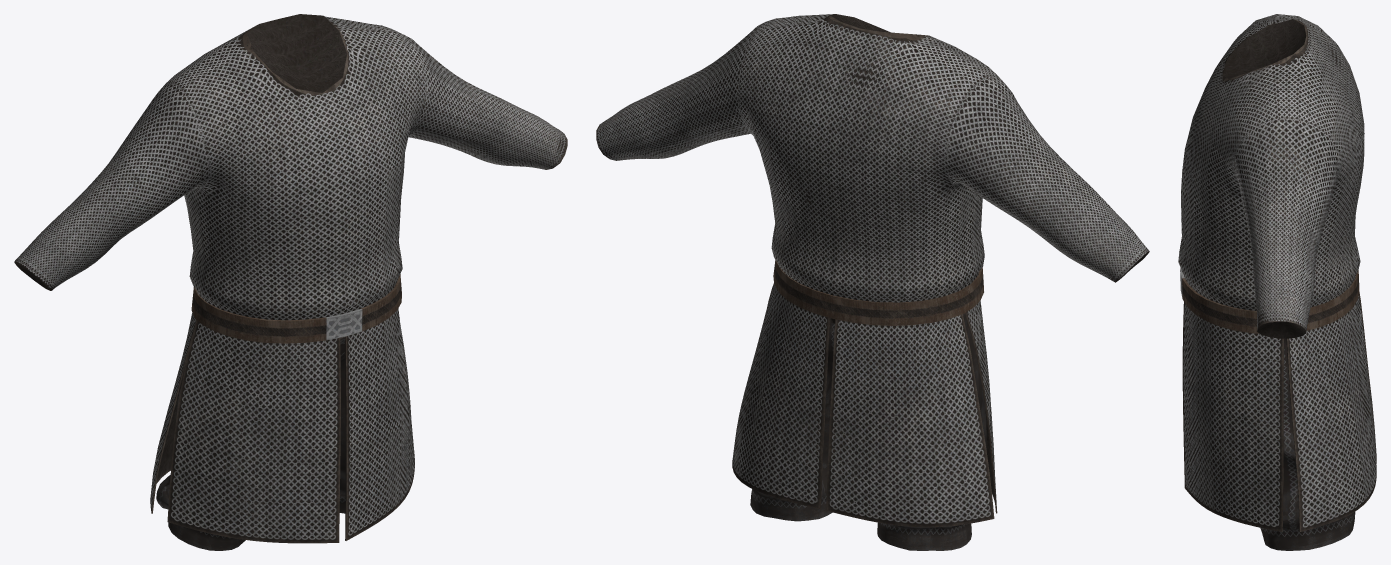
The model's file is sk_dwarf_erebor_chest_chain_a.fbx.
The picture shows the model from 3 angles, left to right: view 1: azimuth 30°, elevation 25°; view 2: azimuth 150°, elevation 25°; view 3: azimuth 270°, elevation 25°; orthographic projection. The views are drawn at different scales.
Visible parts, largest first — view 1: sk_dwarf_erebor_chest_chain_a.1, sk_dwarf_erebor_chest_chain_a.0; view 2: sk_dwarf_erebor_chest_chain_a.1, sk_dwarf_erebor_chest_chain_a.0; view 3: sk_dwarf_erebor_chest_chain_a.1, sk_dwarf_erebor_chest_chain_a.0.
Boxes of the visible parts, bbox=[...] form: sk_dwarf_erebor_chest_chain_a.1: bbox=[14, 14, 567, 543]; sk_dwarf_erebor_chest_chain_a.0: bbox=[156, 338, 345, 550]; sk_dwarf_erebor_chest_chain_a.1: bbox=[596, 14, 1149, 527]; sk_dwarf_erebor_chest_chain_a.0: bbox=[750, 314, 986, 550]; sk_dwarf_erebor_chest_chain_a.1: bbox=[1178, 14, 1376, 531]; sk_dwarf_erebor_chest_chain_a.0: bbox=[1260, 338, 1355, 550].
Size of the model in its own units: 1.16 by 0.3892 by 1.02.
2 materials, 2 textured.
